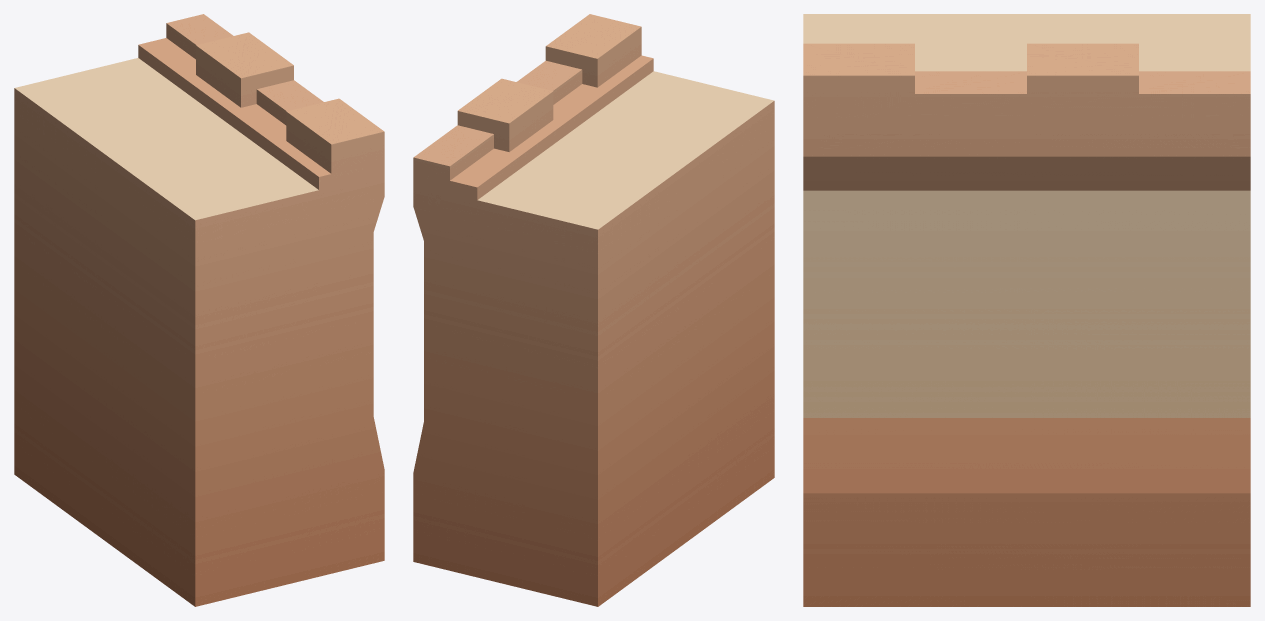
The model's file is wall-kc-wall-half-modular.glb.
3 renders of one model, left to right at view 1: azimuth 30°, elevation 25°; view 2: azimuth 150°, elevation 25°; view 3: azimuth 270°, elevation 25°, orthographic. The views are drawn at different scales.
Visible parts, largest first — view 1: wall-half-modular; view 2: wall-half-modular; view 3: wall-half-modular.
Boxes of the visible parts, <box> form: wall-half-modular: <box>14,14,384,606</box>; wall-half-modular: <box>413,14,774,606</box>; wall-half-modular: <box>803,14,1250,606</box>.
Bounding box in the file's own units: 2.42 × 5.24 × 4.
Materials: 1 (1 with a texture image).
